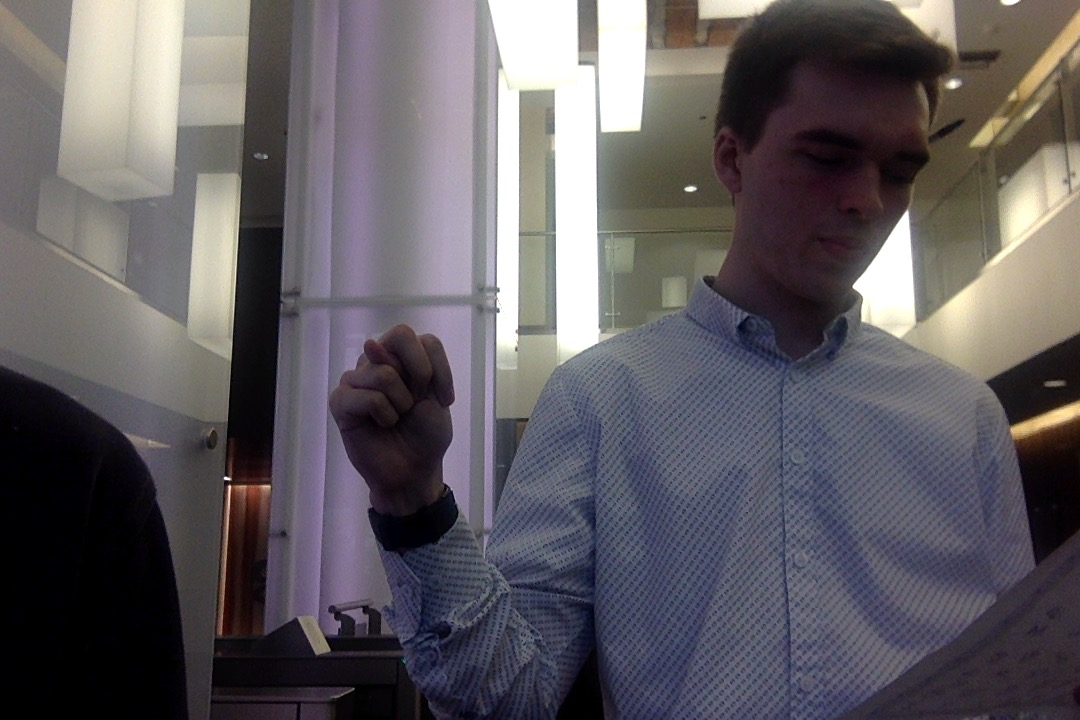n: (326, 320, 462, 510)
